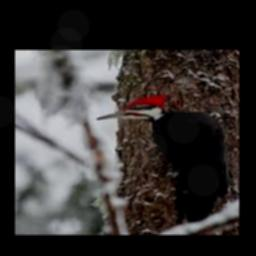Woodpecker: (96, 94, 224, 223)
